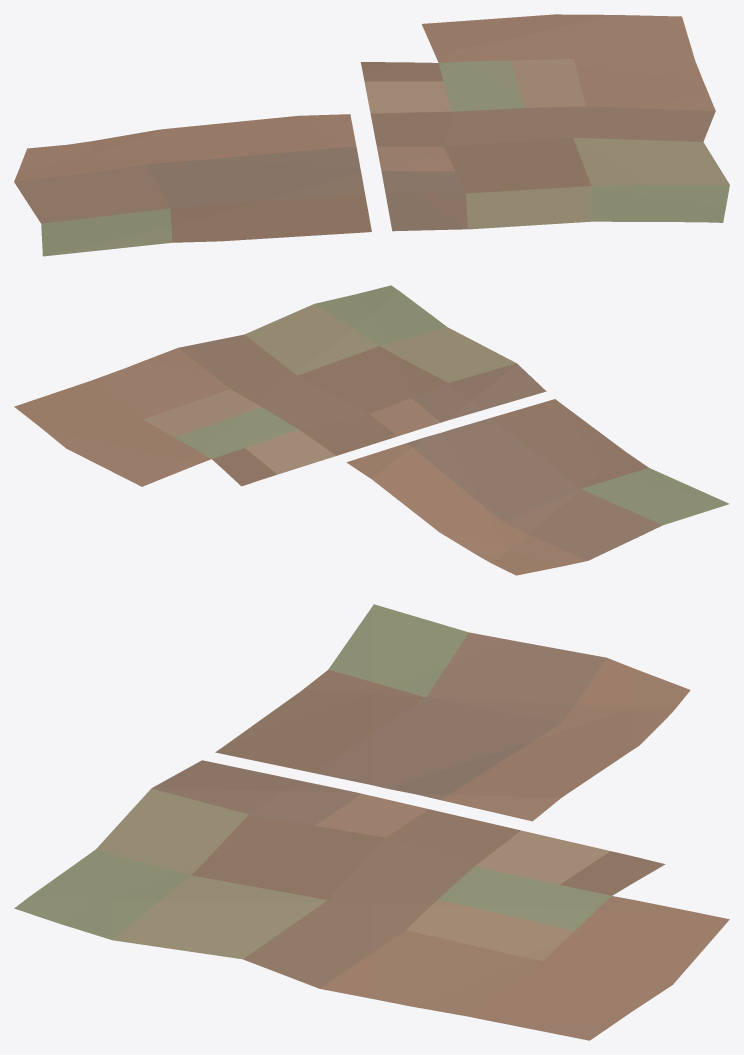
File: farm_10_12_soil.glb
3 views of the same model, one above another, from view 1: azimuth 30°, elevation 25°; view 2: azimuth 150°, elevation 25°; view 3: azimuth 270°, elevation 25° (orthographic). The views are drawn at different scales.
Visible parts, largest first — view 1: geometry_0; view 2: geometry_0; view 3: geometry_0.
Boxes of the visible parts, x1,y1,x2,y2 form: geometry_0: (14,14,729,256); geometry_0: (14,285,729,575); geometry_0: (14,604,729,1040).
Size of the model in its own units: 316 by 11.13 by 220.
